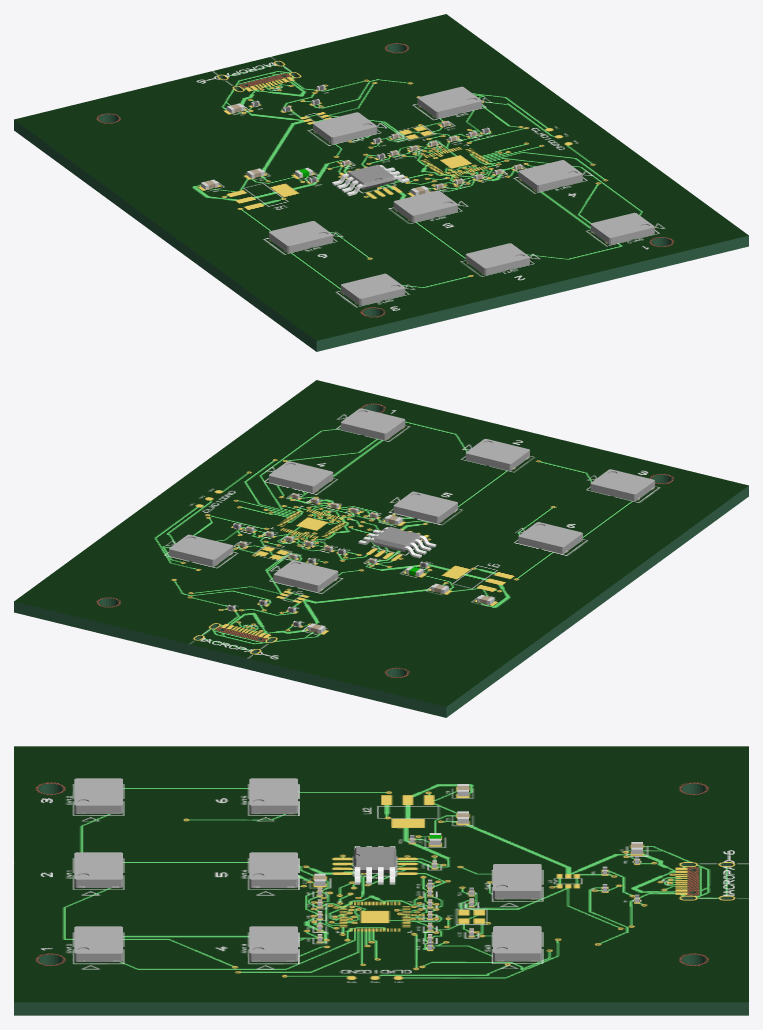
3 views of the same model, one above another, from view 1: azimuth 30°, elevation 25°; view 2: azimuth 150°, elevation 25°; view 3: azimuth 270°, elevation 25° (orthographic). The views are drawn at different scales.
Parts seen in each view (by area): view 1: Box0, SW14, SW2, SW10, SW12, SW3, SW11, SW15, SW13, U4; view 2: Box0, SW2, SW14, SW10, SW12, SW3, SW13, SW11, SW15, U4; view 3: Box0, SW11, SW12, SW14, SW15, SW2, SW3, SW10, SW13, U4.
Boxes of the visible parts, x1,y1,x2,y2 form: Box0: [14, 14, 748, 351]; SW14: [393, 190, 457, 222]; SW2: [313, 112, 377, 144]; SW10: [590, 212, 654, 244]; SW12: [341, 273, 405, 305]; SW3: [417, 86, 481, 118]; SW11: [465, 243, 529, 275]; SW15: [269, 221, 333, 252]; SW13: [518, 160, 582, 191]; U4: [332, 164, 409, 195]; Box0: [14, 380, 748, 717]; SW2: [273, 560, 338, 592]; SW14: [393, 491, 457, 523]; SW10: [341, 408, 405, 440]; SW12: [590, 469, 654, 501]; SW3: [169, 534, 233, 566]; SW13: [269, 461, 333, 493]; SW11: [465, 439, 529, 470]; SW15: [518, 522, 582, 553]; U4: [358, 526, 436, 558]; Box0: [14, 746, 748, 1015]; SW11: [74, 852, 122, 887]; SW12: [74, 778, 122, 813]; SW14: [249, 852, 297, 887]; SW15: [249, 778, 297, 813]; SW2: [493, 864, 541, 899]; SW3: [493, 926, 541, 961]; SW10: [74, 926, 122, 961]; SW13: [249, 926, 297, 961]; U4: [353, 846, 396, 884].
Bounding box in the file's own units: 66 × 2.88 × 80.
10 materials, 2 textured.
